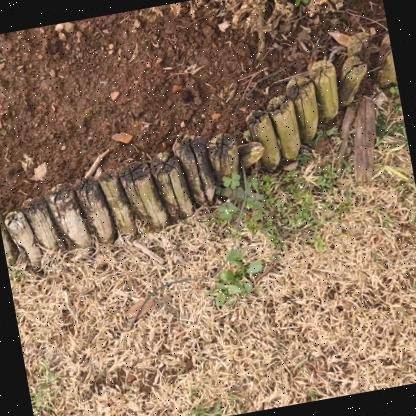Weeds: (199, 245, 268, 306), (209, 166, 266, 221)
